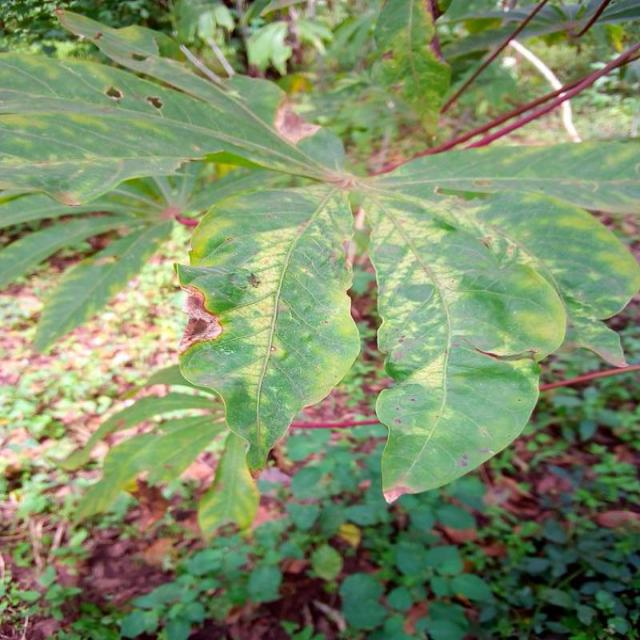cassava leaf: (2, 8, 639, 530), (367, 196, 569, 504), (175, 179, 362, 473)
